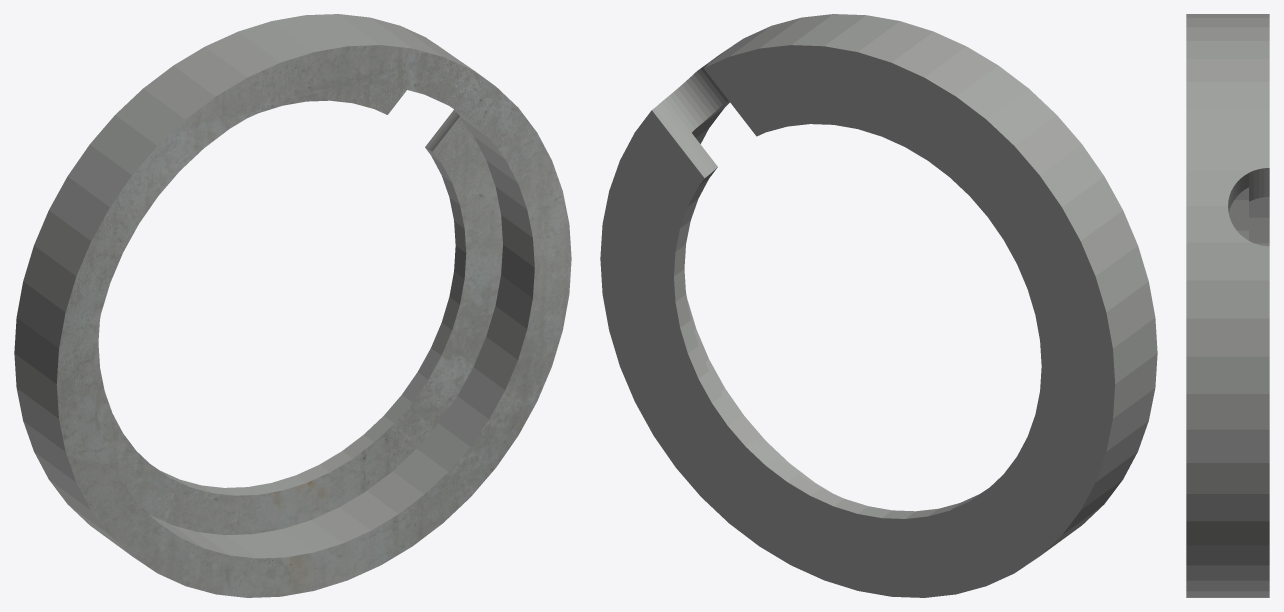
Rendered from pool_009.obj.
The picture shows the model from 3 angles, left to right: view 1: azimuth 30°, elevation 25°; view 2: azimuth 150°, elevation 25°; view 3: azimuth 270°, elevation 25°; orthographic projection.
Size of the model in its own units: 14 by 14 by 2.
